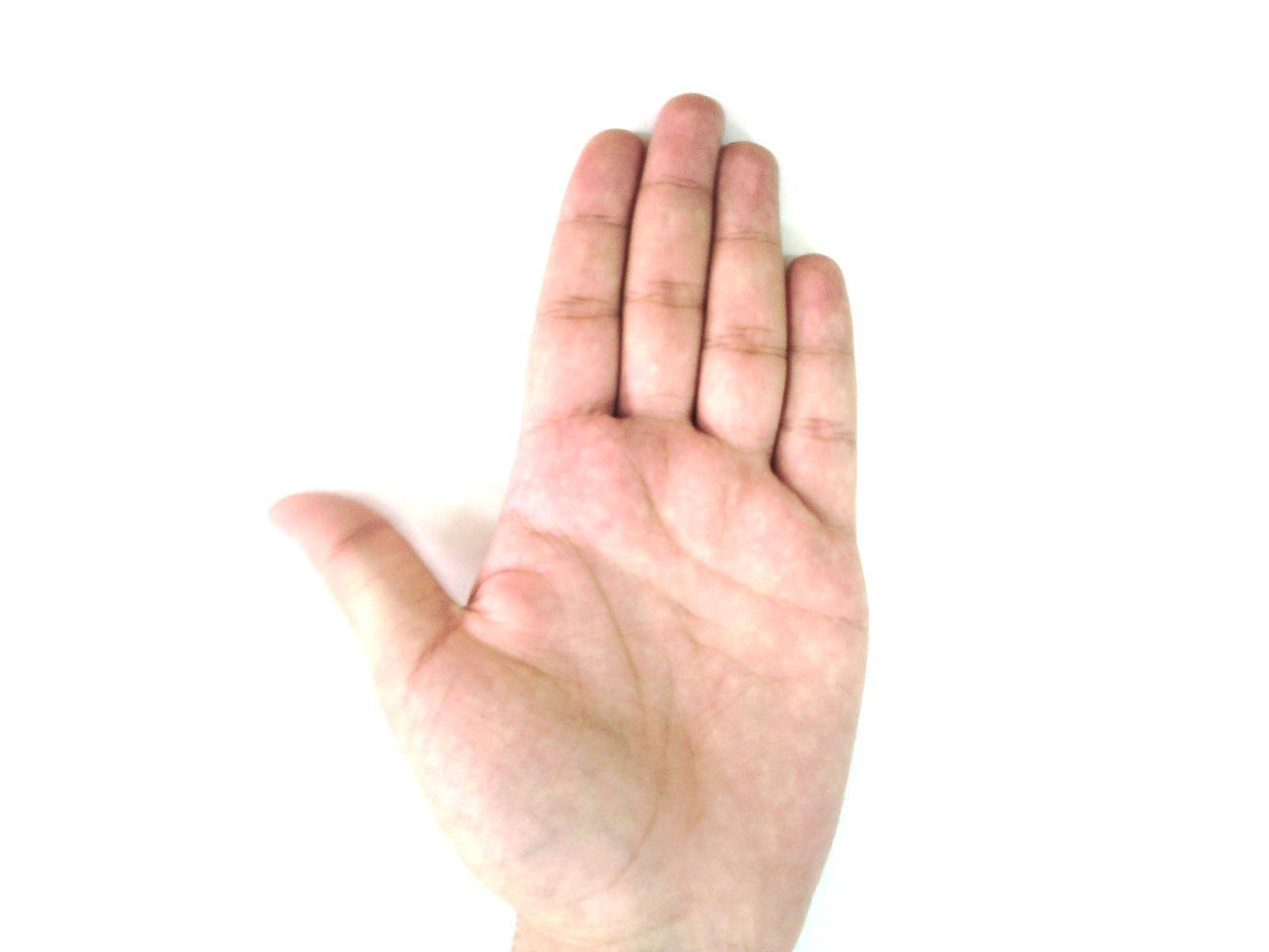open_palm: (267, 92, 874, 950)
